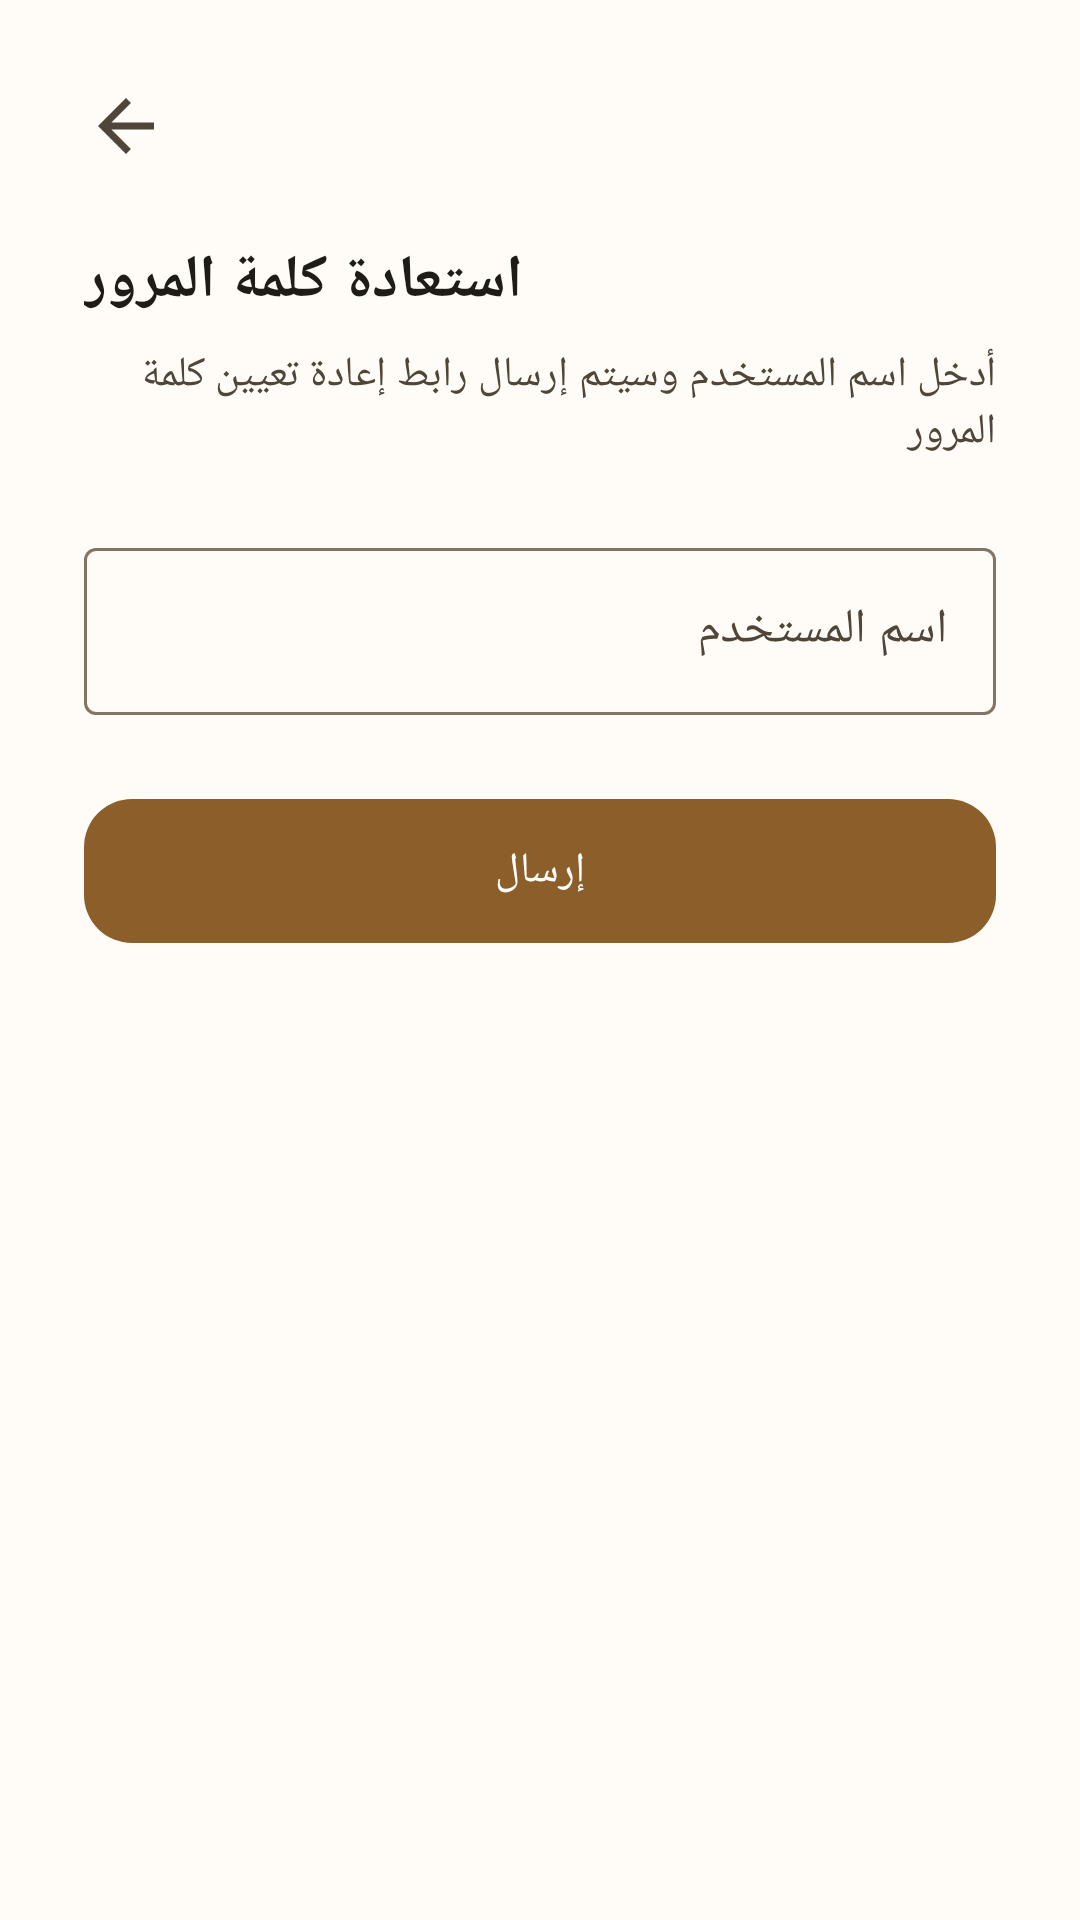

Named icons in this screenshot (1080*1920) and their bounding boxes, (x1, y1, x2, y2):
رجوع: (98, 98, 154, 154)
